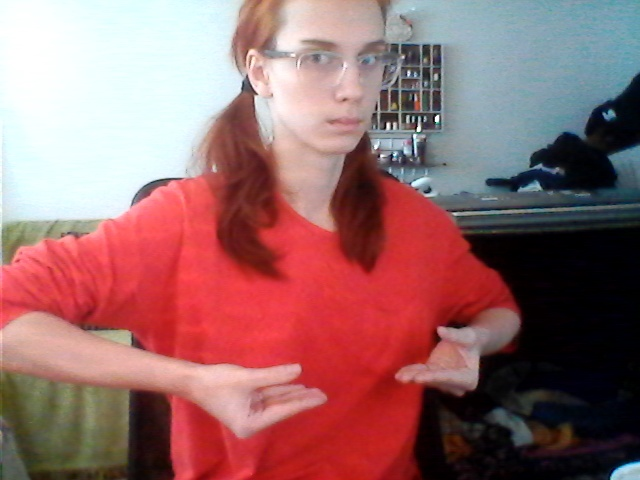drzat: (205, 323, 487, 429)
